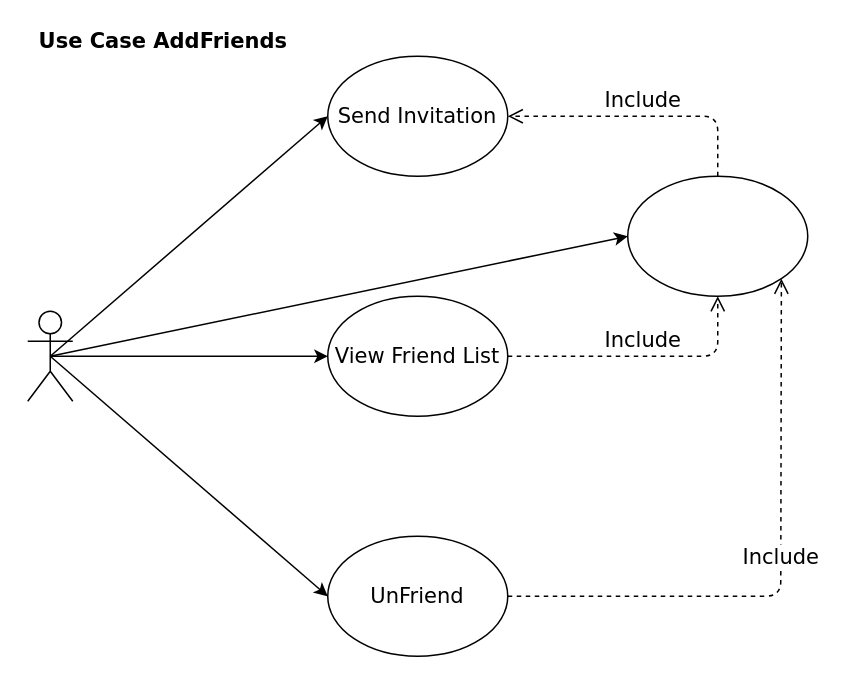
The diagram is 846 pixels wide and 683 high, and some of its shapes have lost their labels. Here are the shapes that lost their labels. From the top down, the box of each, then its label:
(626, 175, 808, 296): Accept Invitation
(26, 310, 73, 401): User
